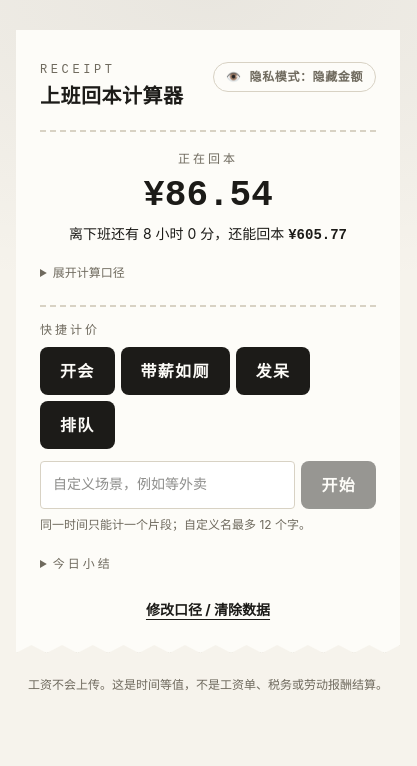
Test case: App › 一键清除后回到设置屏并清空存储
Click the button "修改口径 / 清除数据" at x=208, y=610, box [40,600,376,620]
(page scrolled)
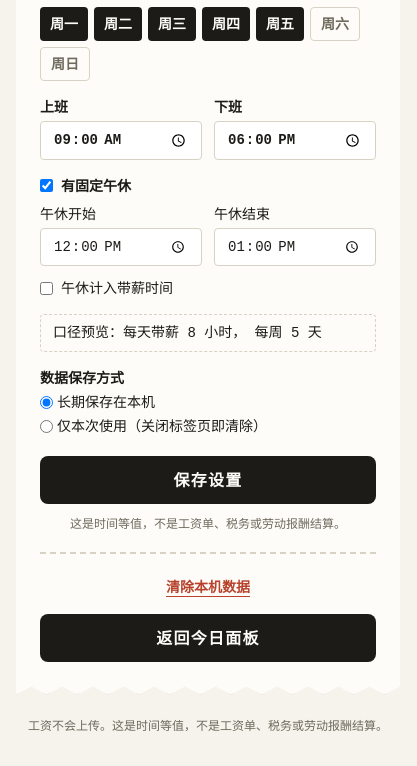
Click the button "清除本机数据" at x=208, y=587, box [40,577,376,597]
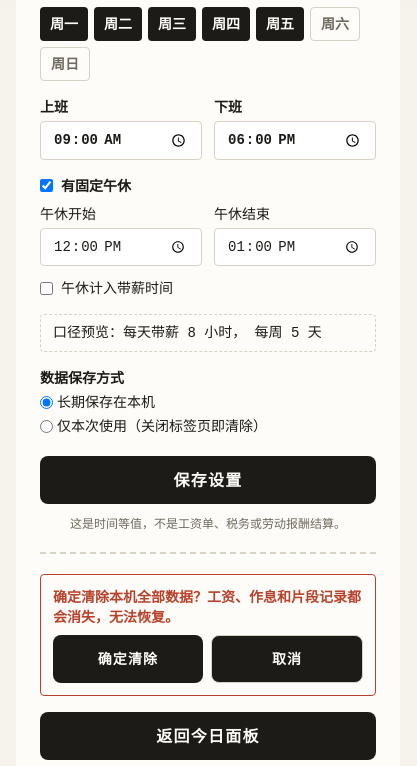
Click the button "确定清除" at x=128, y=659, box [53,635,203,683]
(page scrolled)
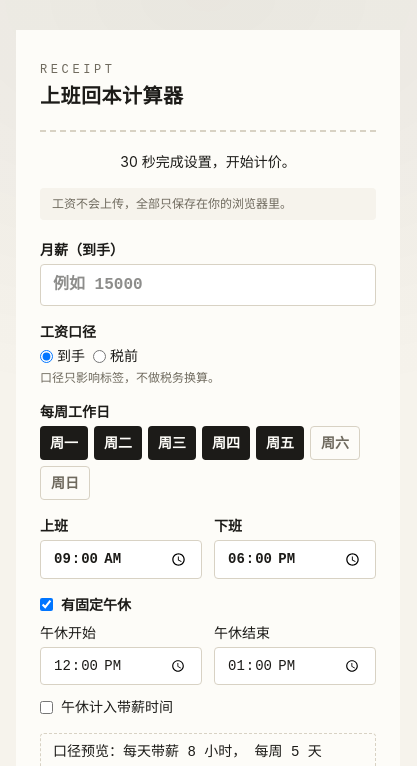
Expected: the text "30 秒完成设置，开始计价。" is shown, [120,153,296,170]
